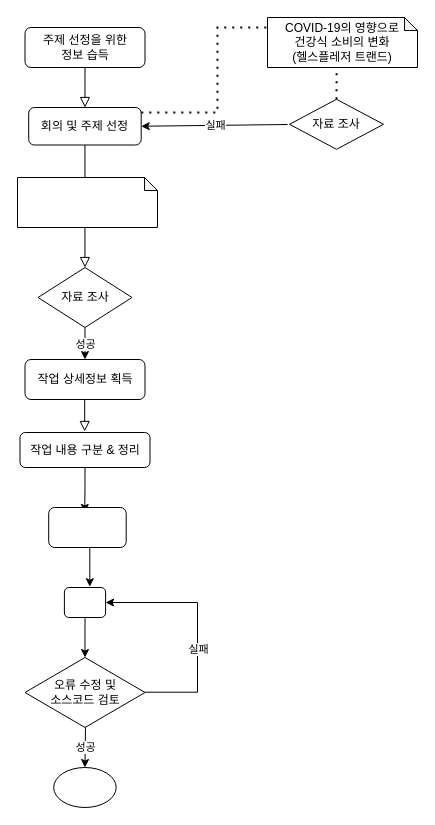
The diagram is 435 pixels wide and 825 high, and some of its shapes have lost their labels. The shapes that lost their labels are listed below. From the top down, each one's centre as x and y in pixels, then its label:
point 87,202: COVID-19 전후 영화 시장 축소에 따른 영화 산업의 변화
point 87,527: 기획안 작성
point 84,602: 코딩
point 84,787: 결과 도출
